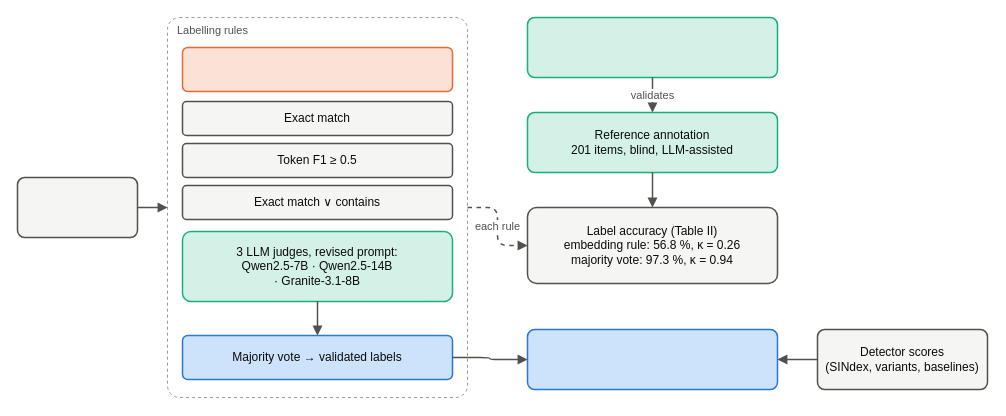
Some shapes in this 1006 by 416 pixel diagram are drawn without their labels. The box of each missing label's shape, as (x1, y1, x2, y2) in pixels:
AUROC with paired and pooled bootstrap (Tables III–V): (526, 328, 778, 390)
Embedding cosine > 0.95 (SINdex protocol): (181, 46, 453, 92)
Human re-annotation 40 random items: 40/40, κ = 1.00: (526, 16, 778, 78)
Most-likely answer ( T = 0.1): (16, 176, 138, 238)
